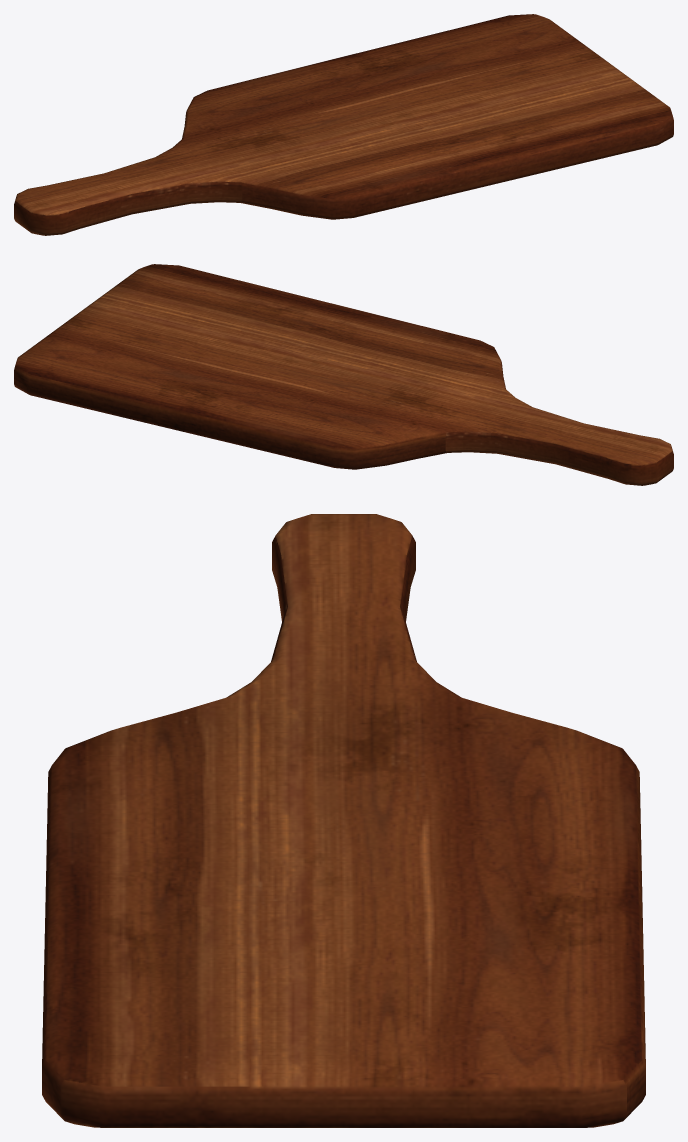
Rendered from Dish_A.fbx.
The picture shows the model from 3 angles, top to bottom: view 1: azimuth 30°, elevation 25°; view 2: azimuth 150°, elevation 25°; view 3: azimuth 270°, elevation 25°; orthographic projection. The views are drawn at different scales.
Parts seen in each view (by area): view 1: Dish_A; view 2: Dish_A; view 3: Dish_A.
Part boxes in pixels (bbox=[...]): Dish_A: bbox=[14, 14, 673, 235]; Dish_A: bbox=[14, 264, 673, 485]; Dish_A: bbox=[42, 514, 645, 1127].
Size of the model in its own units: 1.09 by 0.0416 by 0.4831.
